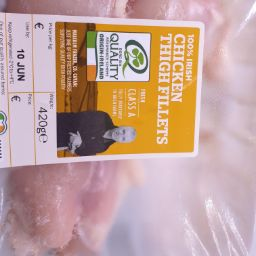Chicken Thigh Fillets: (18, 171, 154, 252), (205, 12, 242, 225)
